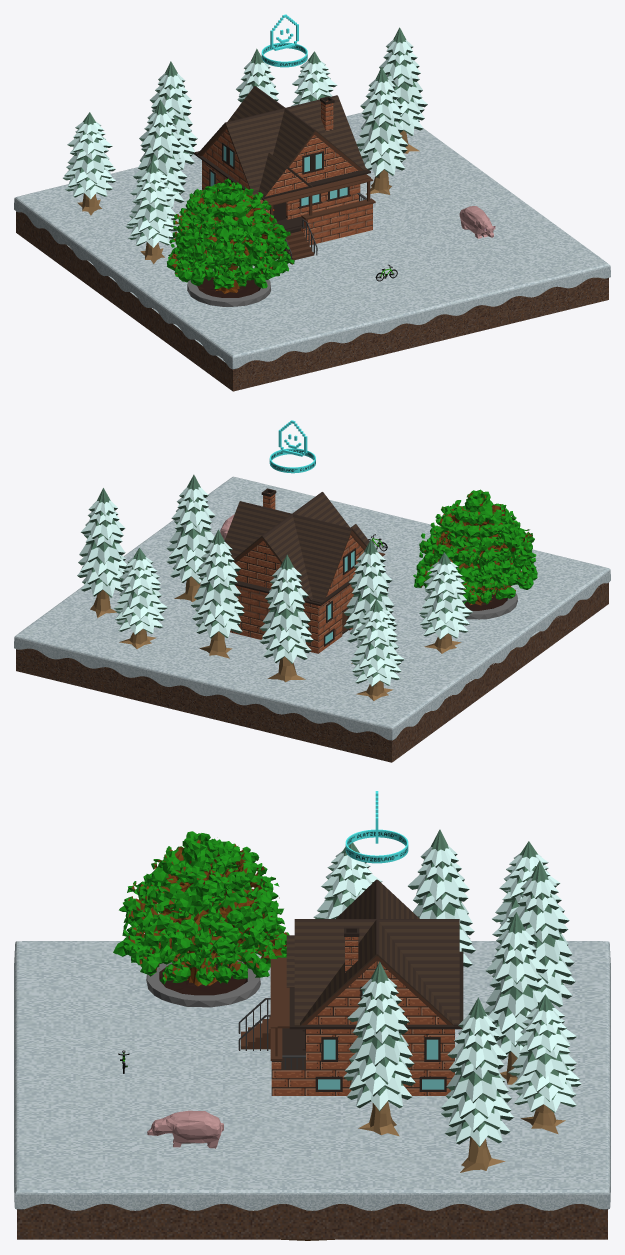
The picture shows the model from 3 angles, top to bottom: view 1: azimuth 30°, elevation 25°; view 2: azimuth 150°, elevation 25°; view 3: azimuth 270°, elevation 25°; orthographic projection. The views are drawn at different scales.
Visible parts, largest first — view 1: Cube.003, Cube.469, OBJRANDOM_CEIBA, TYPE_PREMIUM, ANIMAL_HIPOPOTAMO; view 2: Cube.003, Cube.469, OBJRANDOM_CEIBA, TYPE_PREMIUM; view 3: Cube.003, Cube.469, OBJRANDOM_CEIBA, ANIMAL_HIPOPOTAMO, TYPE_PREMIUM.
Boxes of the visible parts, box(x1,y1,x2,y2) form: Cube.003: box(14, 27, 610, 391); Cube.469: box(193, 86, 375, 260); OBJRANDOM_CEIBA: box(167, 178, 294, 306); TYPE_PREMIUM: box(261, 14, 307, 67); ANIMAL_HIPOPOTAMO: box(459, 206, 495, 238); Cube.003: box(14, 474, 610, 762); Cube.469: box(224, 488, 387, 653); OBJRANDOM_CEIBA: box(413, 489, 537, 619); TYPE_PREMIUM: box(269, 420, 315, 473); Cube.003: box(14, 829, 610, 1239); Cube.469: box(238, 879, 463, 1095); OBJRANDOM_CEIBA: box(113, 831, 289, 1007); ANIMAL_HIPOPOTAMO: box(147, 1110, 223, 1148); TYPE_PREMIUM: box(345, 791, 408, 863).
Size of the model in its own units: 4040 by 2534 by 4040.
Materials: 33 (5 with a texture image).
